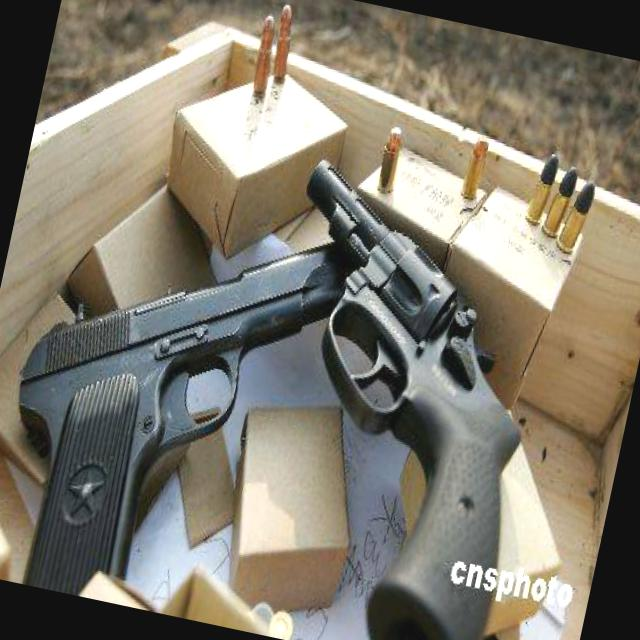handgun: (209, 148, 575, 639), (0, 165, 375, 639)
